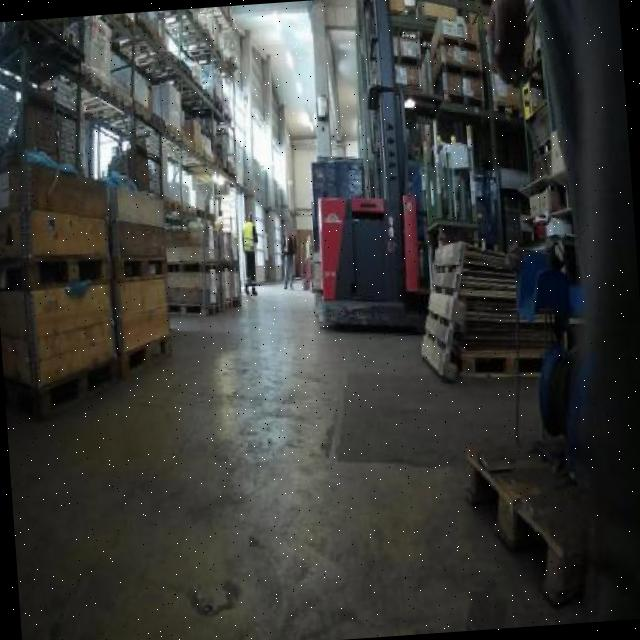pallet: (450, 437, 584, 622), (412, 318, 551, 394), (4, 352, 120, 430), (9, 251, 116, 296), (117, 325, 183, 381), (112, 253, 174, 283), (168, 296, 226, 324)
